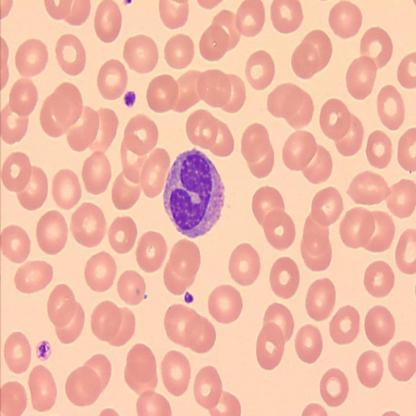Monocyte: (160, 146, 228, 240)
